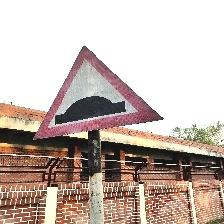Speed-breaker: (33, 45, 164, 139)
